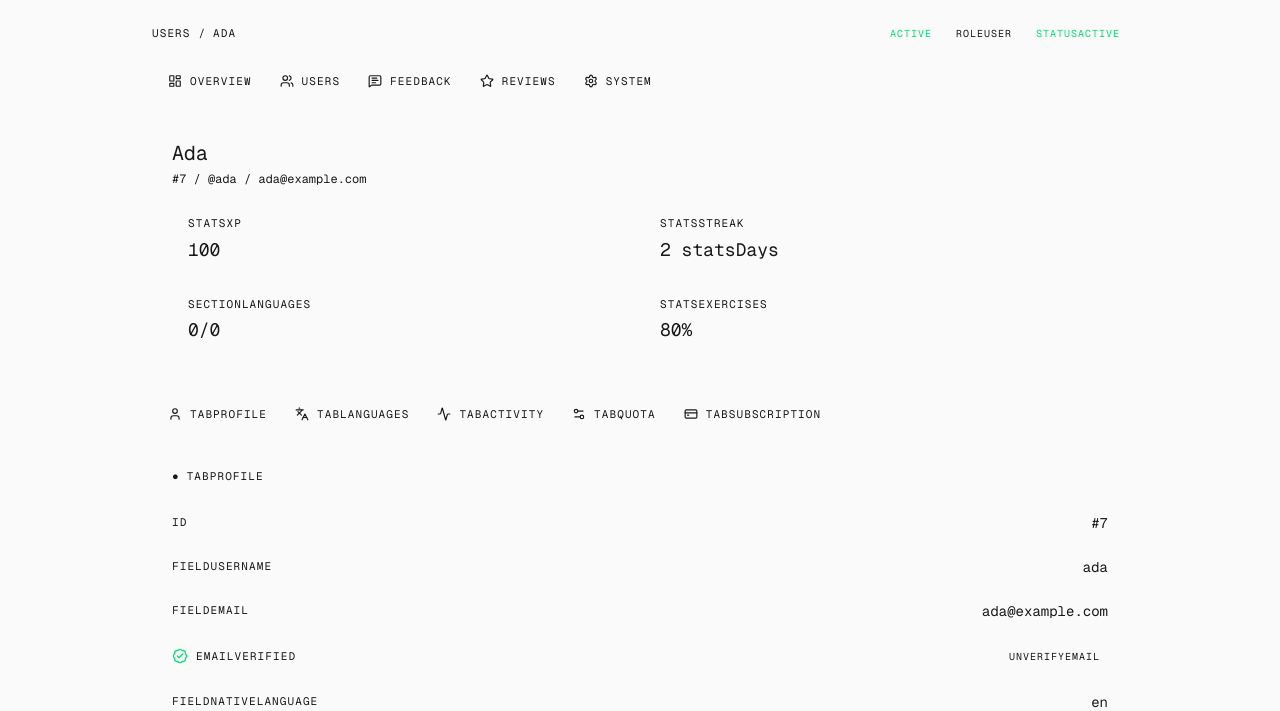
AdminUserStatsPage subscription visibility › keeps subscription status and controls when Stripe is enabled
Expected: the text "statusActive" is shown, [1036,27,1120,40]
Step 1. Click the button "tabSubscription" → point(752, 414), box [672,396,833,432]
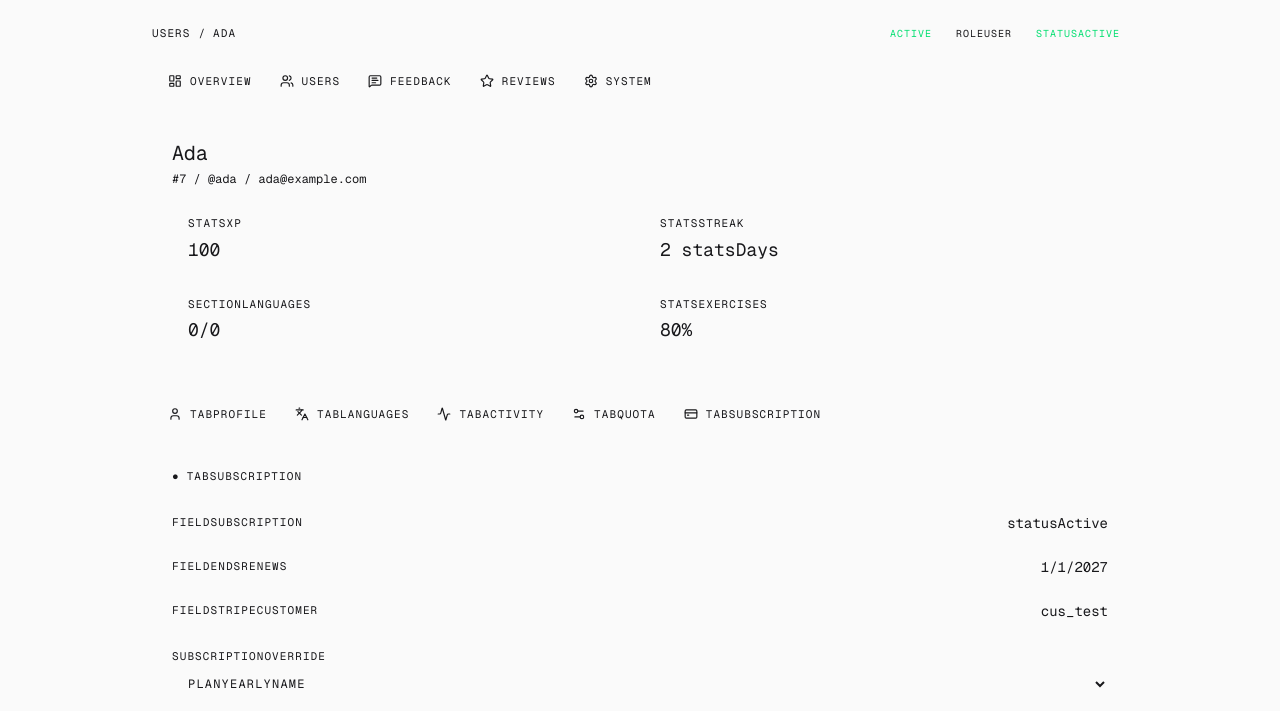
Now the text "subscriptionOverride" is shown, box [172,648,326,662]
Now the text "cus_test" is shown, box [1041,600,1108,620]
